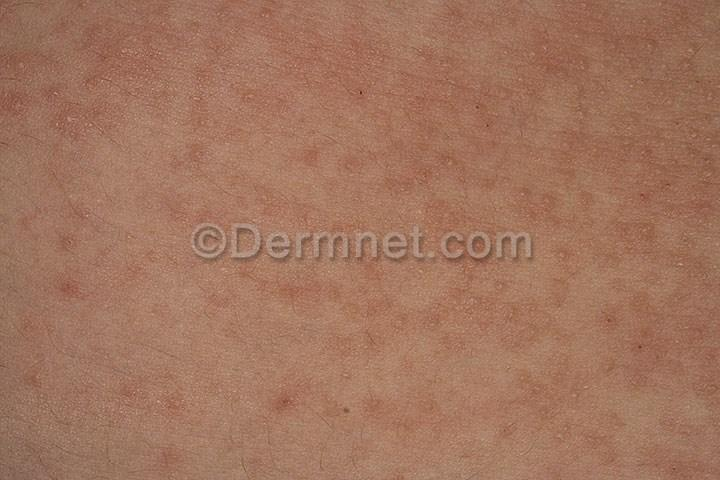Eczema: (2, 0, 720, 480)
